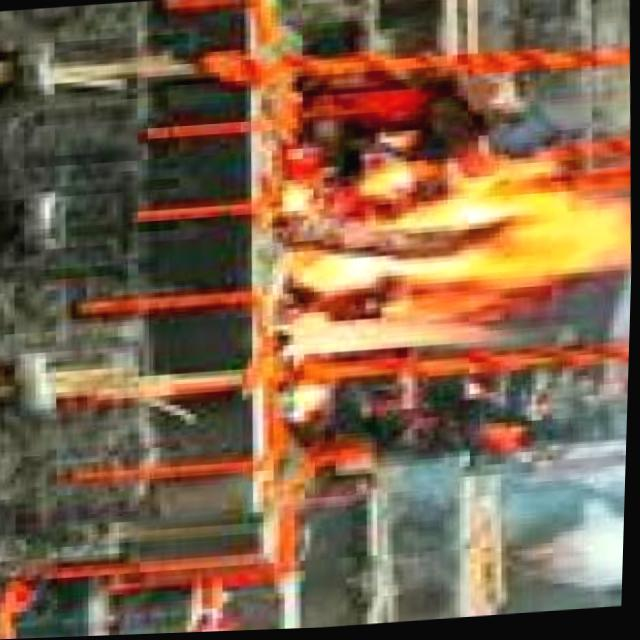fire: (287, 139, 636, 386)
